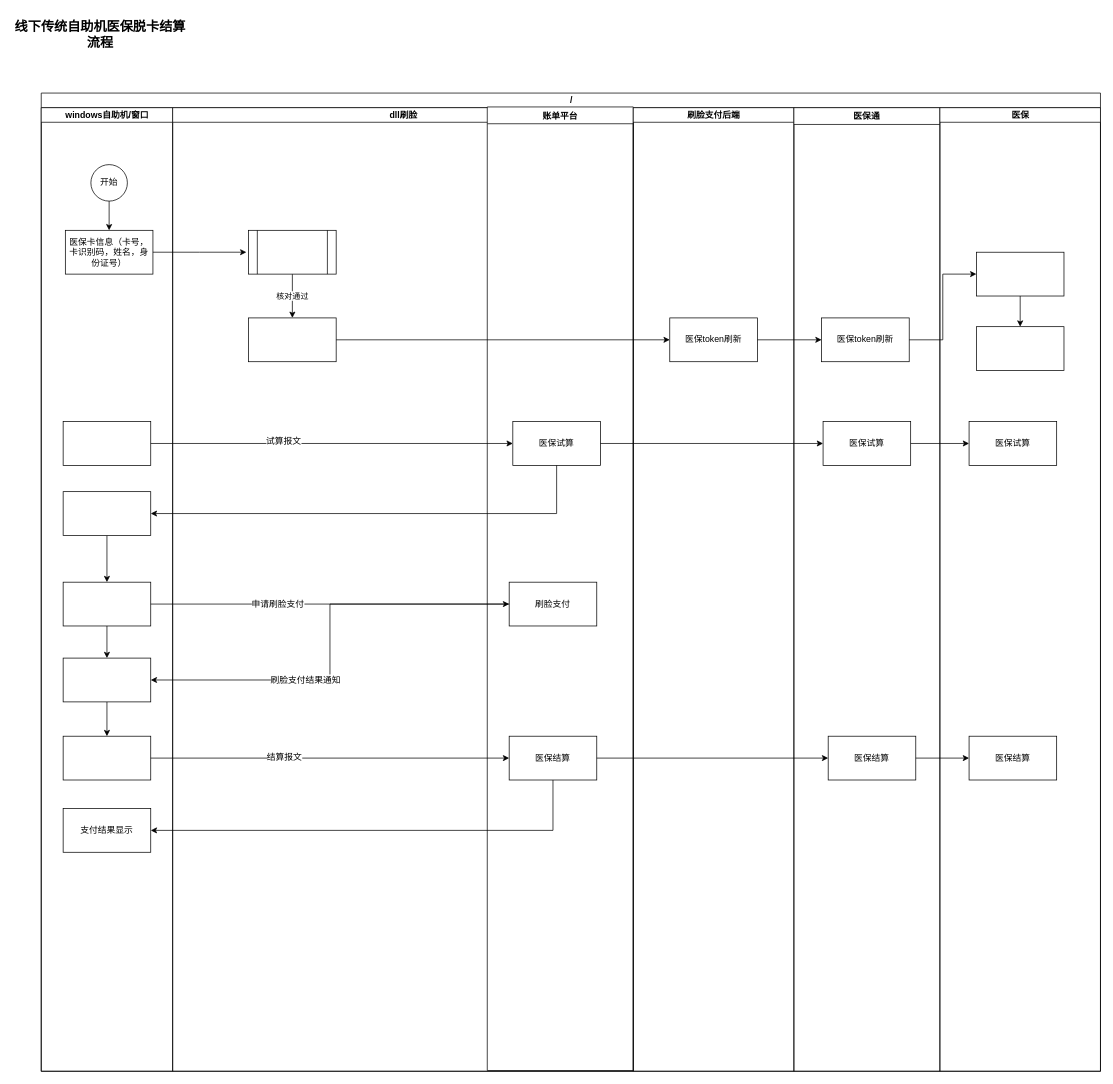
Some shapes in this 1113 by 1084 pixel diagram are drawn without their labels. Here are the shapes that lost their labels. From the top down, the centre of each, then its label:
At (292,252): "刷脸核身（非会员模式）".
At (1020,273): "获取临时token".
At (292,339): "根据入参的医保信息，刷新token".
At (1020,348): "获取正式token".
At (106,443): "开始试算".
At (106,513): "试算后，展示费用明细".
At (106,603): "自费支付".
At (106,679): "自费支付成功".
At (106,757): "开始结算，正式结算报文".
